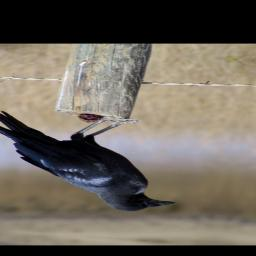Crow: (0, 107, 197, 216)
